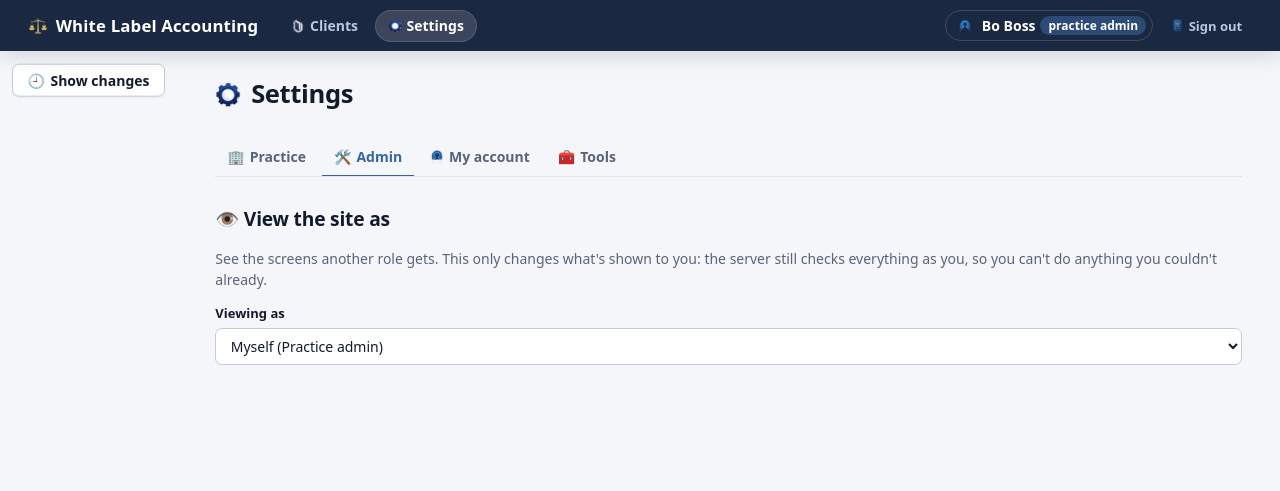
Test: practice settings › lets an admin preview the site as another role
Step 1. Select "Viewer" in the dropdown labelled "Viewing as" → (728, 346), box x1=215 y1=328 x2=1242 y2=365
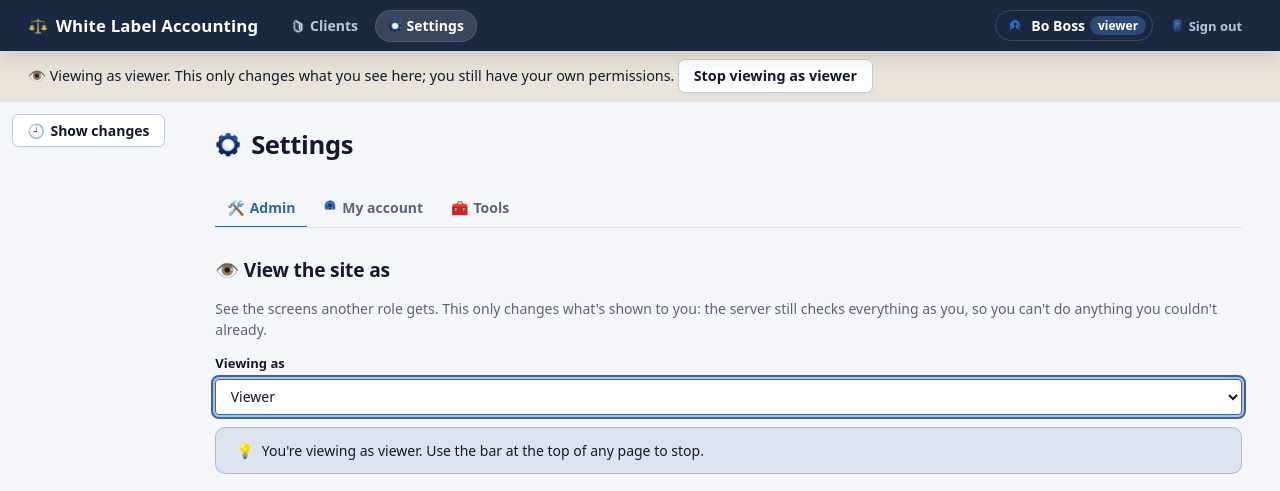
Expected: the link "🛠️ Admin" is shown, x1=215 y1=188 x2=307 y2=228
Expected: the button "Stop viewing as viewer" is shown
Step 2. Click the button "Stop viewing as viewer" → (775, 76), box x1=678 y1=59 x2=872 y2=93
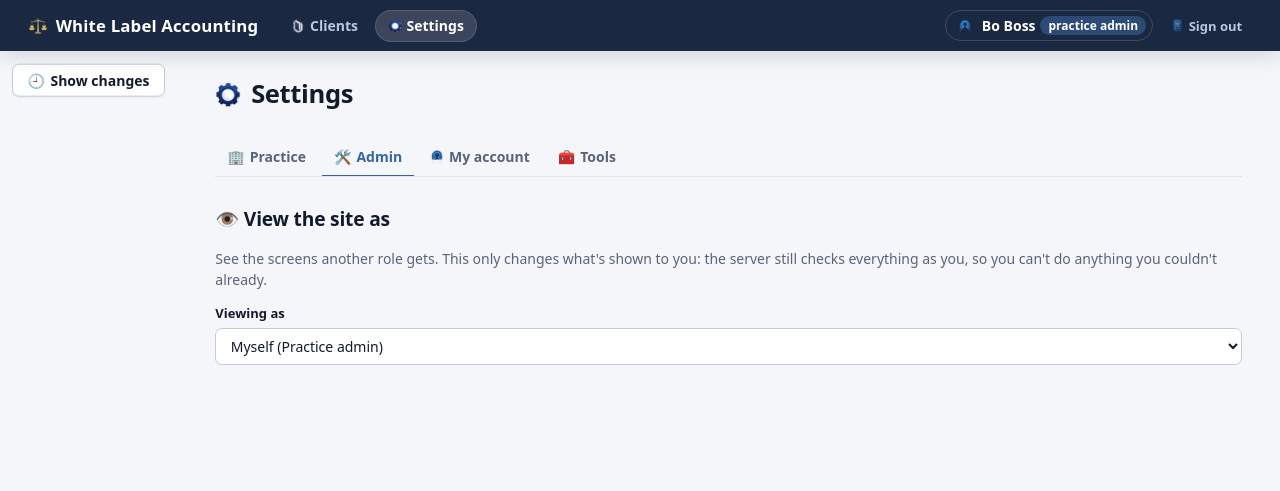
Expected: the button "Stop viewing as viewer" is gone
